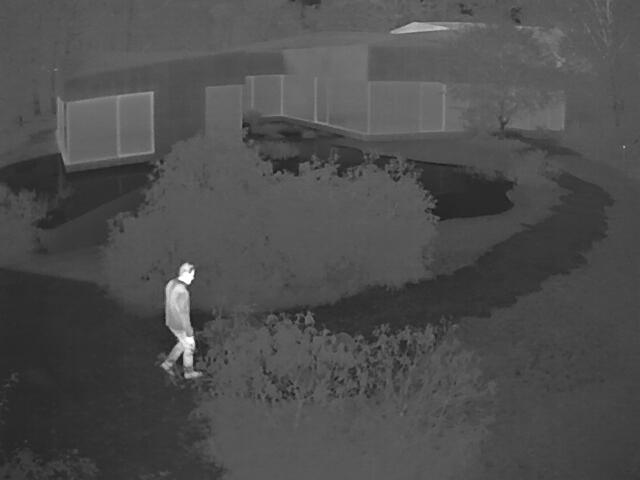person: (161, 261, 202, 383)
